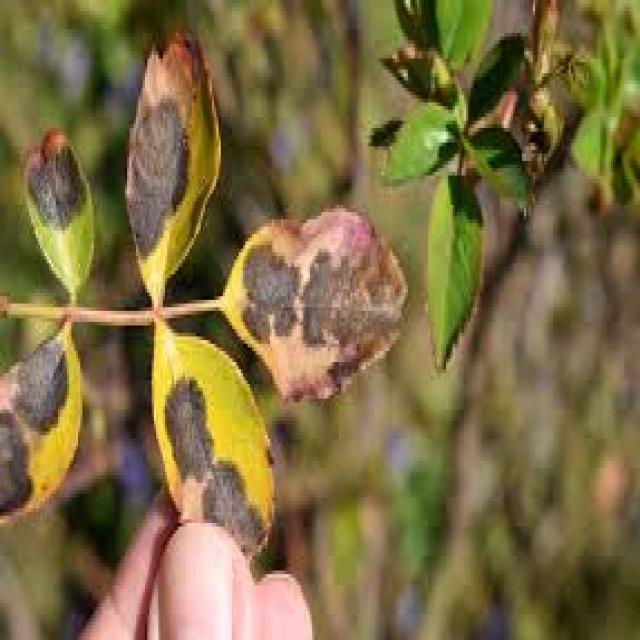bercak_daun: (145, 330, 284, 552), (120, 21, 222, 299), (0, 326, 92, 534)
